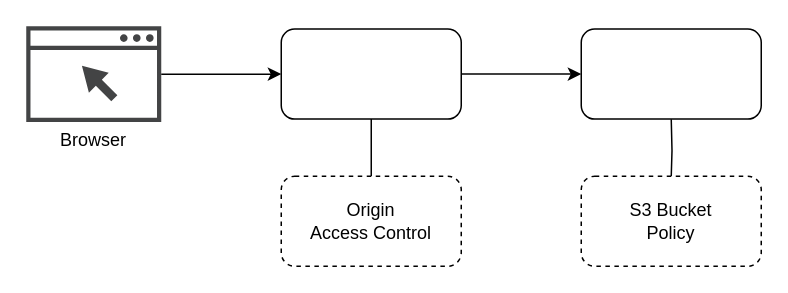
Image size: 788x293. Some labels were removed from this diagram. The shapes that lost their labels are listed below. From the top down, each one's centre as x and y in pixels, then its label:
[370,73]: CloudFront
[670,73]: S3 Bucket
